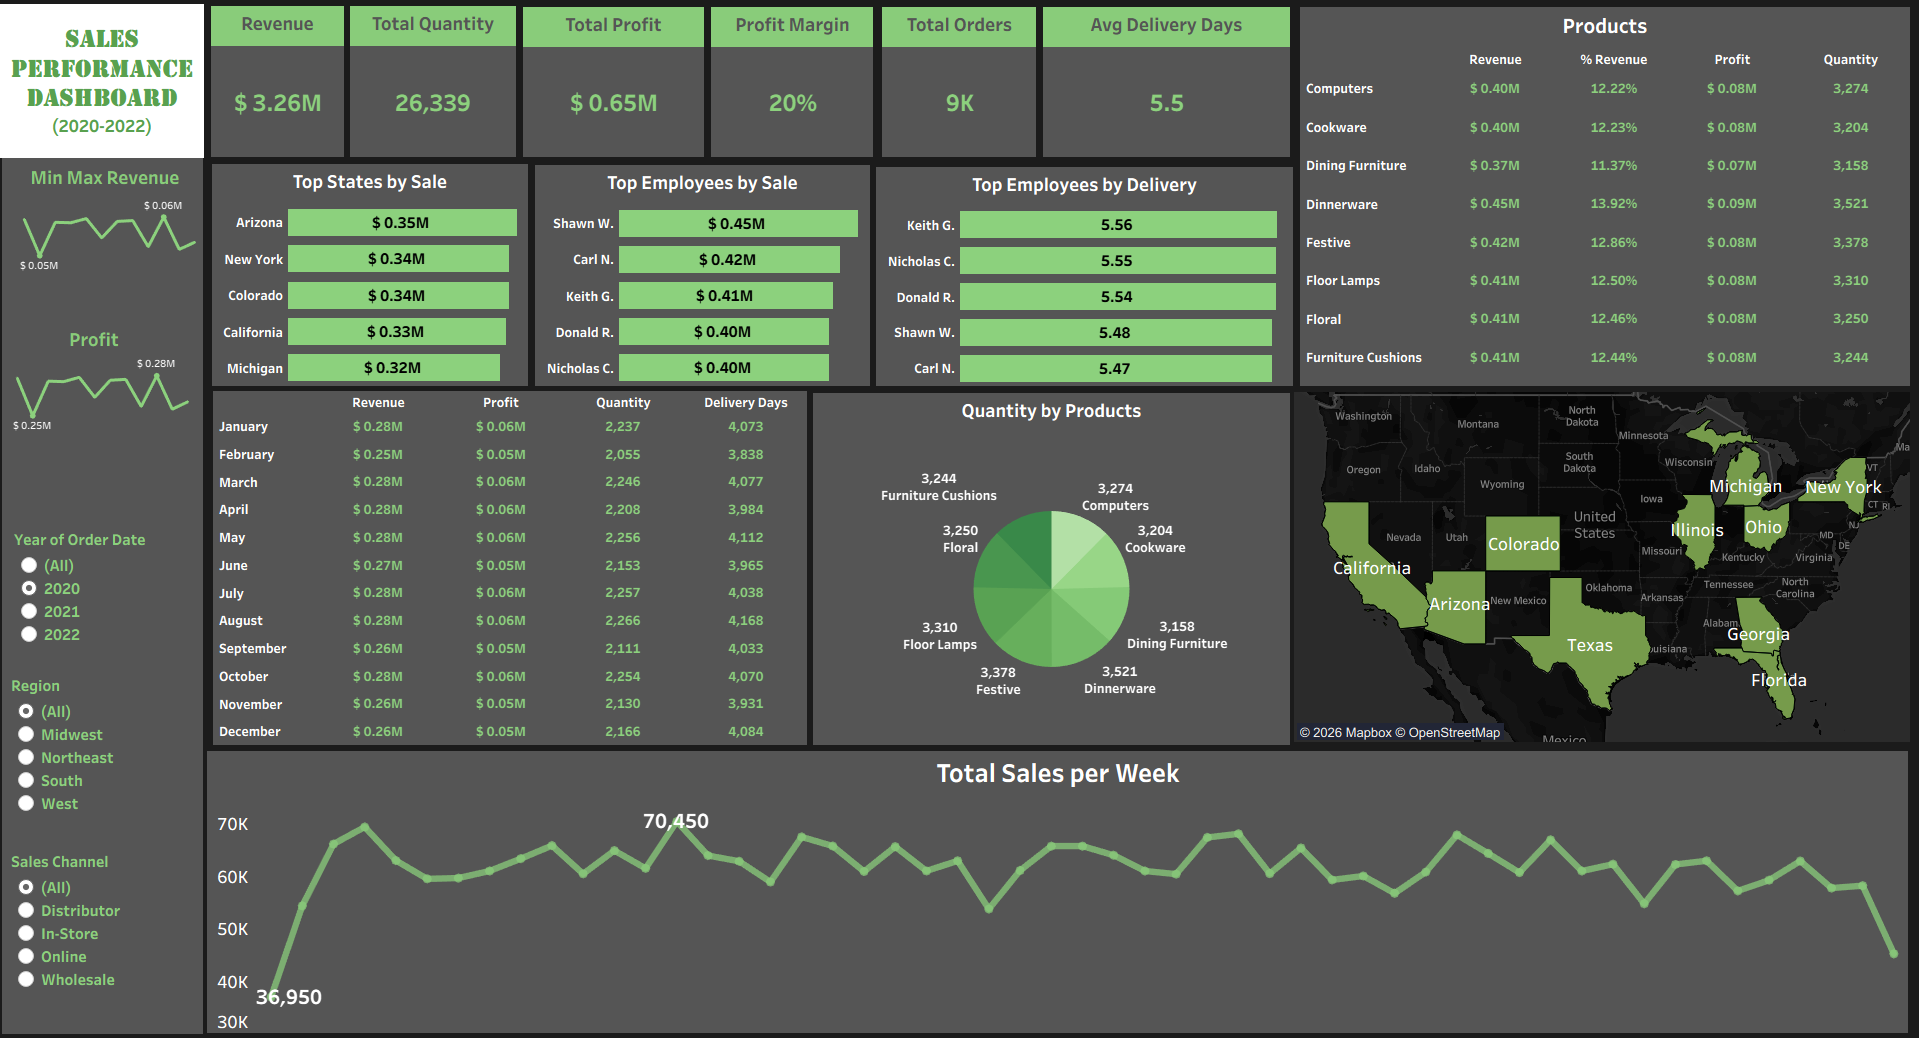

This screenshot's page, from the dashboard's own definition file:
{"tool":"tableau","page":{"name":"Dashboard","canvas":[1000,1000],"units":"permille","ordinal":0},"visuals":[{"type":"text","box":[0,3.5,106.4,148.1]},{"type":"worksheet","title":"Total Sales","mark":"Automatic","box":[110,5.9,69.1,144.5]},{"type":"worksheet","title":"Total Quantity","mark":"Automatic","box":[182.1,5.9,86.5,144.5]},{"type":"blank","box":[1.2,7,104.8,984.7]},{"type":"worksheet","title":"Total Profit","mark":"Automatic","box":[272.2,7,94.4,143.4]},{"type":"worksheet","title":"Profit Margin","mark":"Automatic","box":[370.2,7,84.7,143.4]},{"type":"worksheet","title":"Total Orders ","mark":"Automatic","box":[459.1,7,80.5,143.4]},{"type":"worksheet","title":"Avg Delivery Days","mark":"Automatic","box":[543.3,7,128.6,143.4]},{"type":"worksheet","title":"Product table","mark":"Automatic","rows":["Product"],"box":[676.9,7,317.7,363.1]},{"type":"text","box":[8.9,151.6,91.5,35.2]},{"type":"worksheet","title":"Top States by Sale","mark":"Automatic","rows":["State"],"cols":["Sales"],"box":[110.6,157.5,164.7,212.7]},{"type":"worksheet","title":"Top Employees by Sale ","mark":"Automatic","rows":["Employee"],"cols":["Sales"],"box":[278.6,158.6,174.5,211.5]},{"type":"worksheet","title":"Top Employees by Delivery","mark":"Automatic","rows":["Employee"],"cols":["DeliveryDays"],"box":[456.1,159.8,217.2,210.3]},{"type":"worksheet","title":"profit-spark line ","mark":"Automatic","rows":["Profit"],"cols":["OrderDate"],"box":[8.3,189.2,96.9,366.6]},{"type":"text","box":[9.5,306.7,79,35.2]},{"type":"worksheet","title":"sale-spark line","mark":"Automatic","rows":["Sales"],"cols":["OrderDate"],"box":[4.8,340.8,96.9,379.6]},{"type":"worksheet","title":"Month detail","mark":"Automatic","rows":["OrderDate"],"box":[110.8,374.9,309.4,339.6]},{"type":"worksheet","title":"Map","mark":"Multipolygon","box":[674.2,376.1,320.9,335.3]},{"type":"worksheet","title":"Quantity by Product","mark":"Pie","box":[423.2,377.2,248.7,337.2]},{"type":"filter","title":"Avg Delivery Days","param":"[federated.0r0b4yr1vkcalo14gmdjc106o47n].[yr:OrderDate:ok]","box":[7.1,507.6,93.3,168]},{"type":"filter","title":"Avg Delivery Days","param":"[federated.0r0b4yr1vkcalo14gmdjc106o47n].[none:Region:nk]","box":[5.9,647.5,93.9,171.6]},{"type":"worksheet","title":"Total sales per week","mark":"Automatic","rows":["Sales"],"cols":["OrderDate"],"box":[107.8,720.3,886.2,270.3]},{"type":"filter","title":"Avg Delivery Days","param":"[federated.0r0b4yr1vkcalo14gmdjc106o47n].[none:SalesChannel:nk]","box":[5.9,815.5,93.9,181]}]}

Visuals, with their boxes on the dashboard's canvas, which has no fixed pixel size, in thousandths of its width and height (x1, y1, x2, y2). These are canvas units, not pixel positions in the 1919x1038 screenshot, which may show the page scaled, cropped or inside an application window:
text: {"x1": 0, "y1": 4, "x2": 106, "y2": 152}
"Total Sales" worksheet: {"x1": 110, "y1": 6, "x2": 179, "y2": 150}
"Total Quantity" worksheet: {"x1": 182, "y1": 6, "x2": 269, "y2": 150}
blank: {"x1": 1, "y1": 7, "x2": 106, "y2": 992}
"Total Profit" worksheet: {"x1": 272, "y1": 7, "x2": 367, "y2": 150}
"Profit Margin" worksheet: {"x1": 370, "y1": 7, "x2": 455, "y2": 150}
"Total Orders " worksheet: {"x1": 459, "y1": 7, "x2": 540, "y2": 150}
"Avg Delivery Days" worksheet: {"x1": 543, "y1": 7, "x2": 672, "y2": 150}
"Product table" worksheet: {"x1": 677, "y1": 7, "x2": 995, "y2": 370}
text: {"x1": 9, "y1": 152, "x2": 100, "y2": 187}
"Top States by Sale" worksheet: {"x1": 111, "y1": 158, "x2": 275, "y2": 370}
"Top Employees by Sale " worksheet: {"x1": 279, "y1": 159, "x2": 453, "y2": 370}
"Top Employees by Delivery" worksheet: {"x1": 456, "y1": 160, "x2": 673, "y2": 370}
"profit-spark line " worksheet: {"x1": 8, "y1": 189, "x2": 105, "y2": 556}
text: {"x1": 10, "y1": 307, "x2": 88, "y2": 342}
"sale-spark line" worksheet: {"x1": 5, "y1": 341, "x2": 102, "y2": 720}
"Month detail" worksheet: {"x1": 111, "y1": 375, "x2": 420, "y2": 714}
"Map" worksheet (Multipolygon marks): {"x1": 674, "y1": 376, "x2": 995, "y2": 711}
"Quantity by Product" worksheet (Pie marks): {"x1": 423, "y1": 377, "x2": 672, "y2": 714}
"Avg Delivery Days" filter: {"x1": 7, "y1": 508, "x2": 100, "y2": 676}
"Avg Delivery Days" filter: {"x1": 6, "y1": 648, "x2": 100, "y2": 819}
"Total sales per week" worksheet: {"x1": 108, "y1": 720, "x2": 994, "y2": 991}
"Avg Delivery Days" filter: {"x1": 6, "y1": 816, "x2": 100, "y2": 996}
